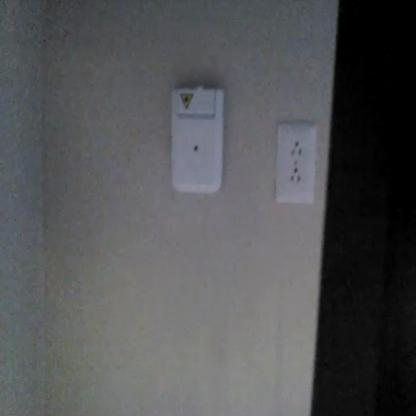OUTLET: (276, 124, 318, 204)
